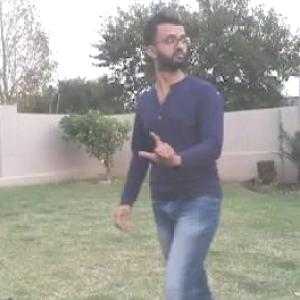land_hand: (134, 122, 182, 172)
